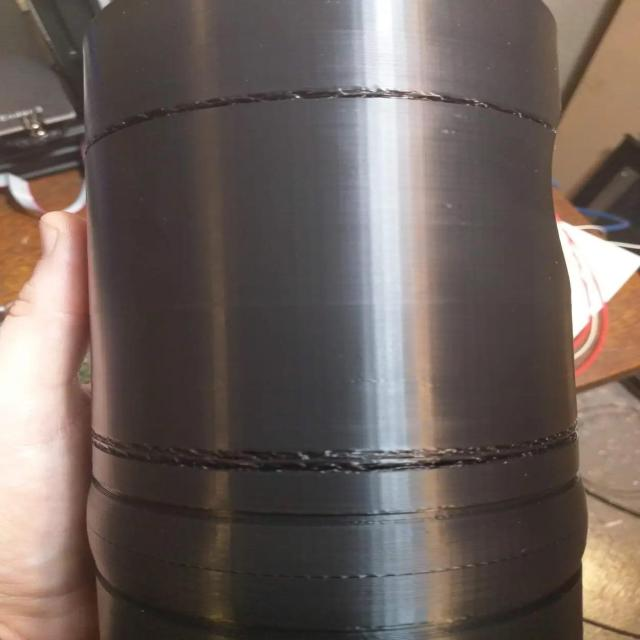spaghetti: (78, 421, 590, 530), (93, 76, 567, 148)
